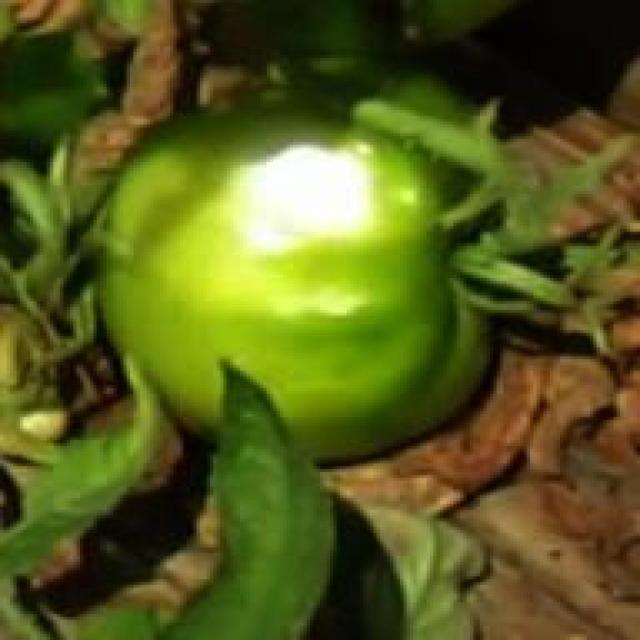Sunscald Fruit: (152, 89, 257, 168)
